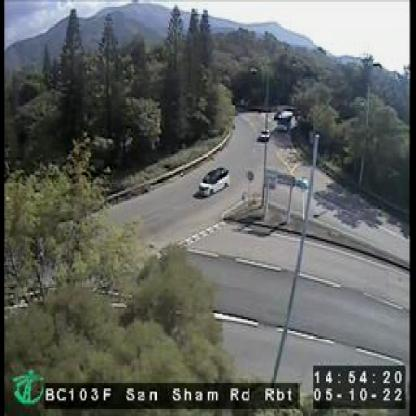Bus: (277, 109, 292, 132)
Car: (196, 166, 229, 196), (260, 126, 269, 138)
